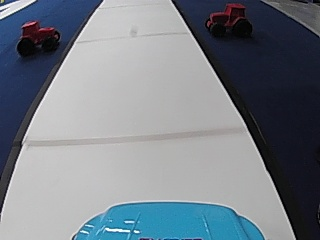tractor: (202, 2, 252, 39), (14, 18, 60, 57)
